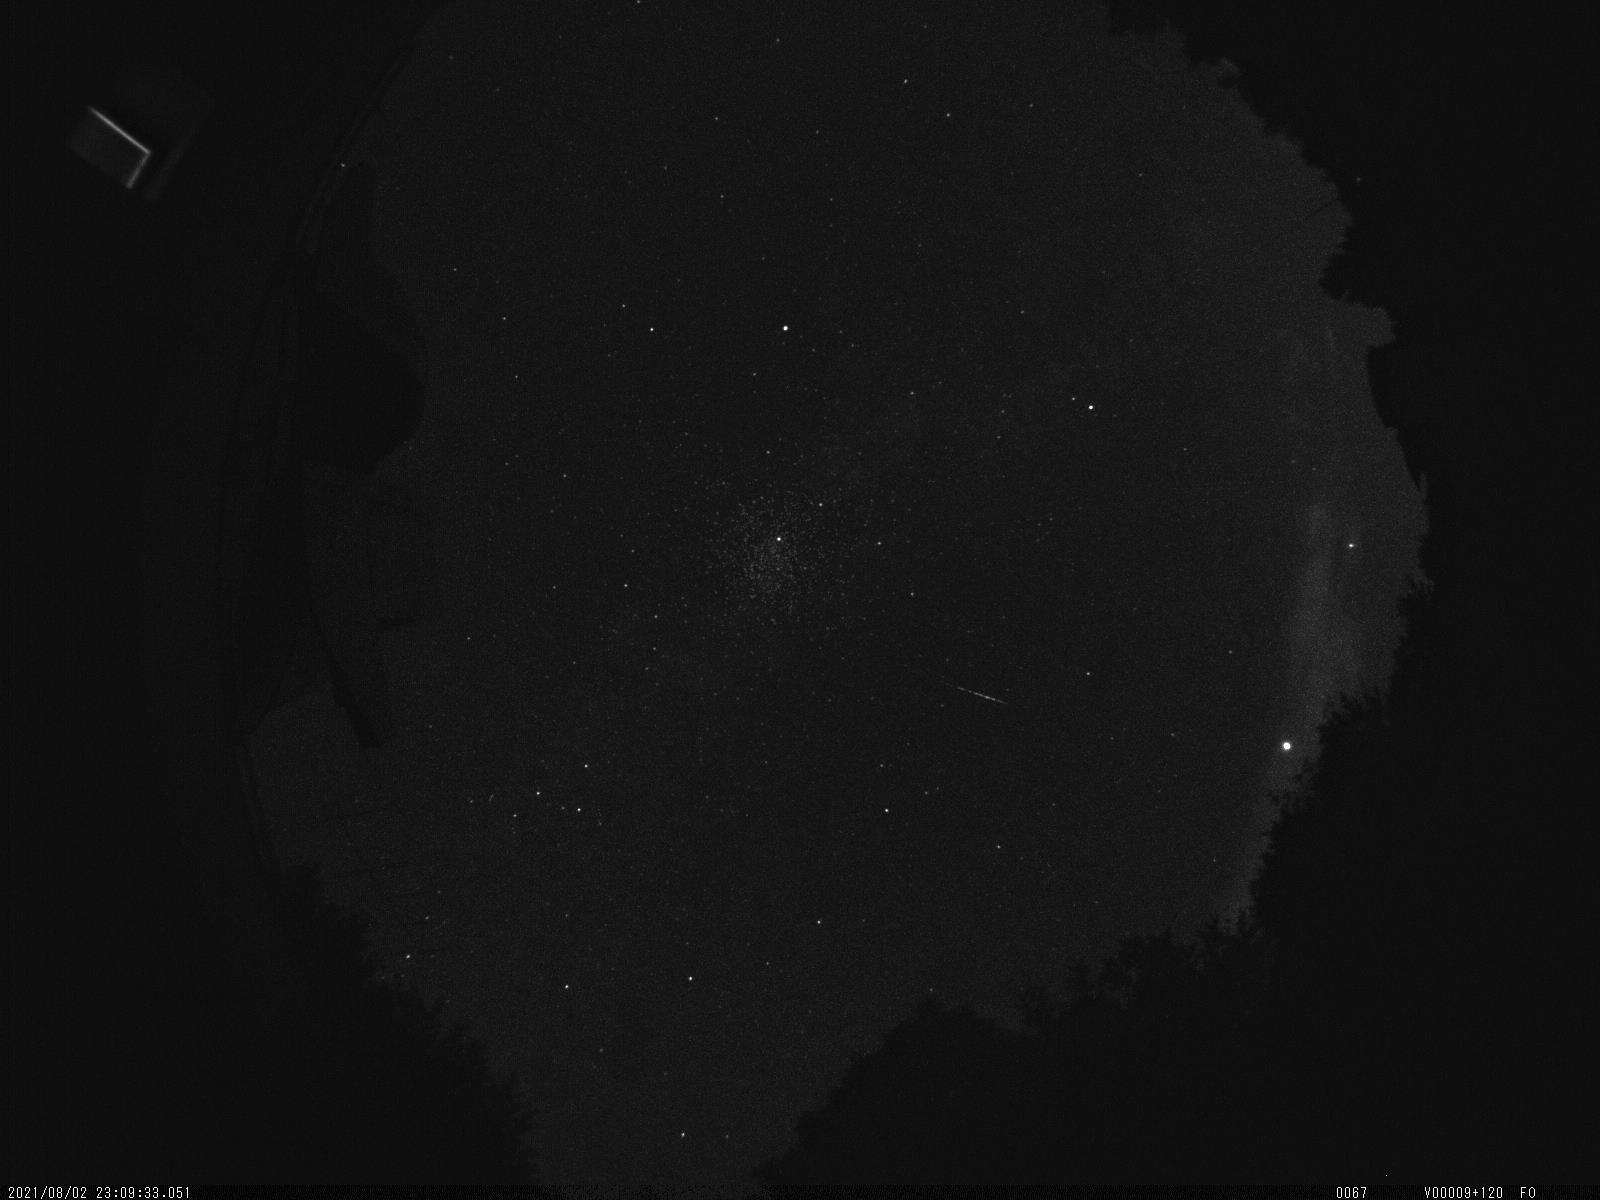Meteor: (939, 679, 1015, 714)
